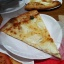pizza: (3, 10, 61, 59)
